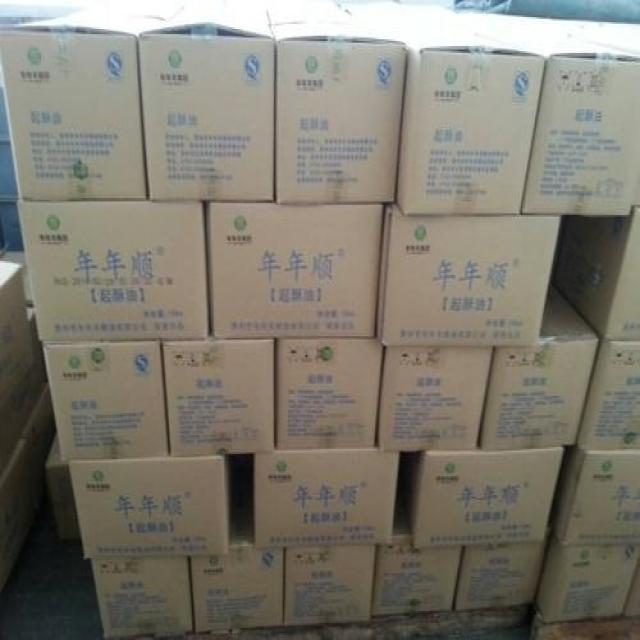box: (339, 3, 545, 215), (0, 0, 184, 200), (463, 14, 640, 215), (262, 0, 406, 203), (17, 200, 210, 343), (374, 203, 562, 346), (204, 200, 384, 341), (479, 282, 600, 451), (68, 456, 229, 558), (408, 447, 564, 548), (42, 341, 170, 463), (550, 172, 640, 341), (255, 447, 401, 546), (161, 340, 275, 457), (375, 346, 494, 452), (275, 338, 384, 452), (534, 529, 640, 621), (371, 519, 463, 620), (554, 444, 640, 546), (188, 546, 284, 635), (91, 556, 193, 638), (453, 527, 552, 609), (283, 544, 376, 626), (576, 340, 640, 451), (0, 435, 37, 594), (0, 259, 36, 416), (0, 360, 45, 478), (22, 381, 58, 505), (45, 433, 79, 543), (623, 544, 640, 618)
